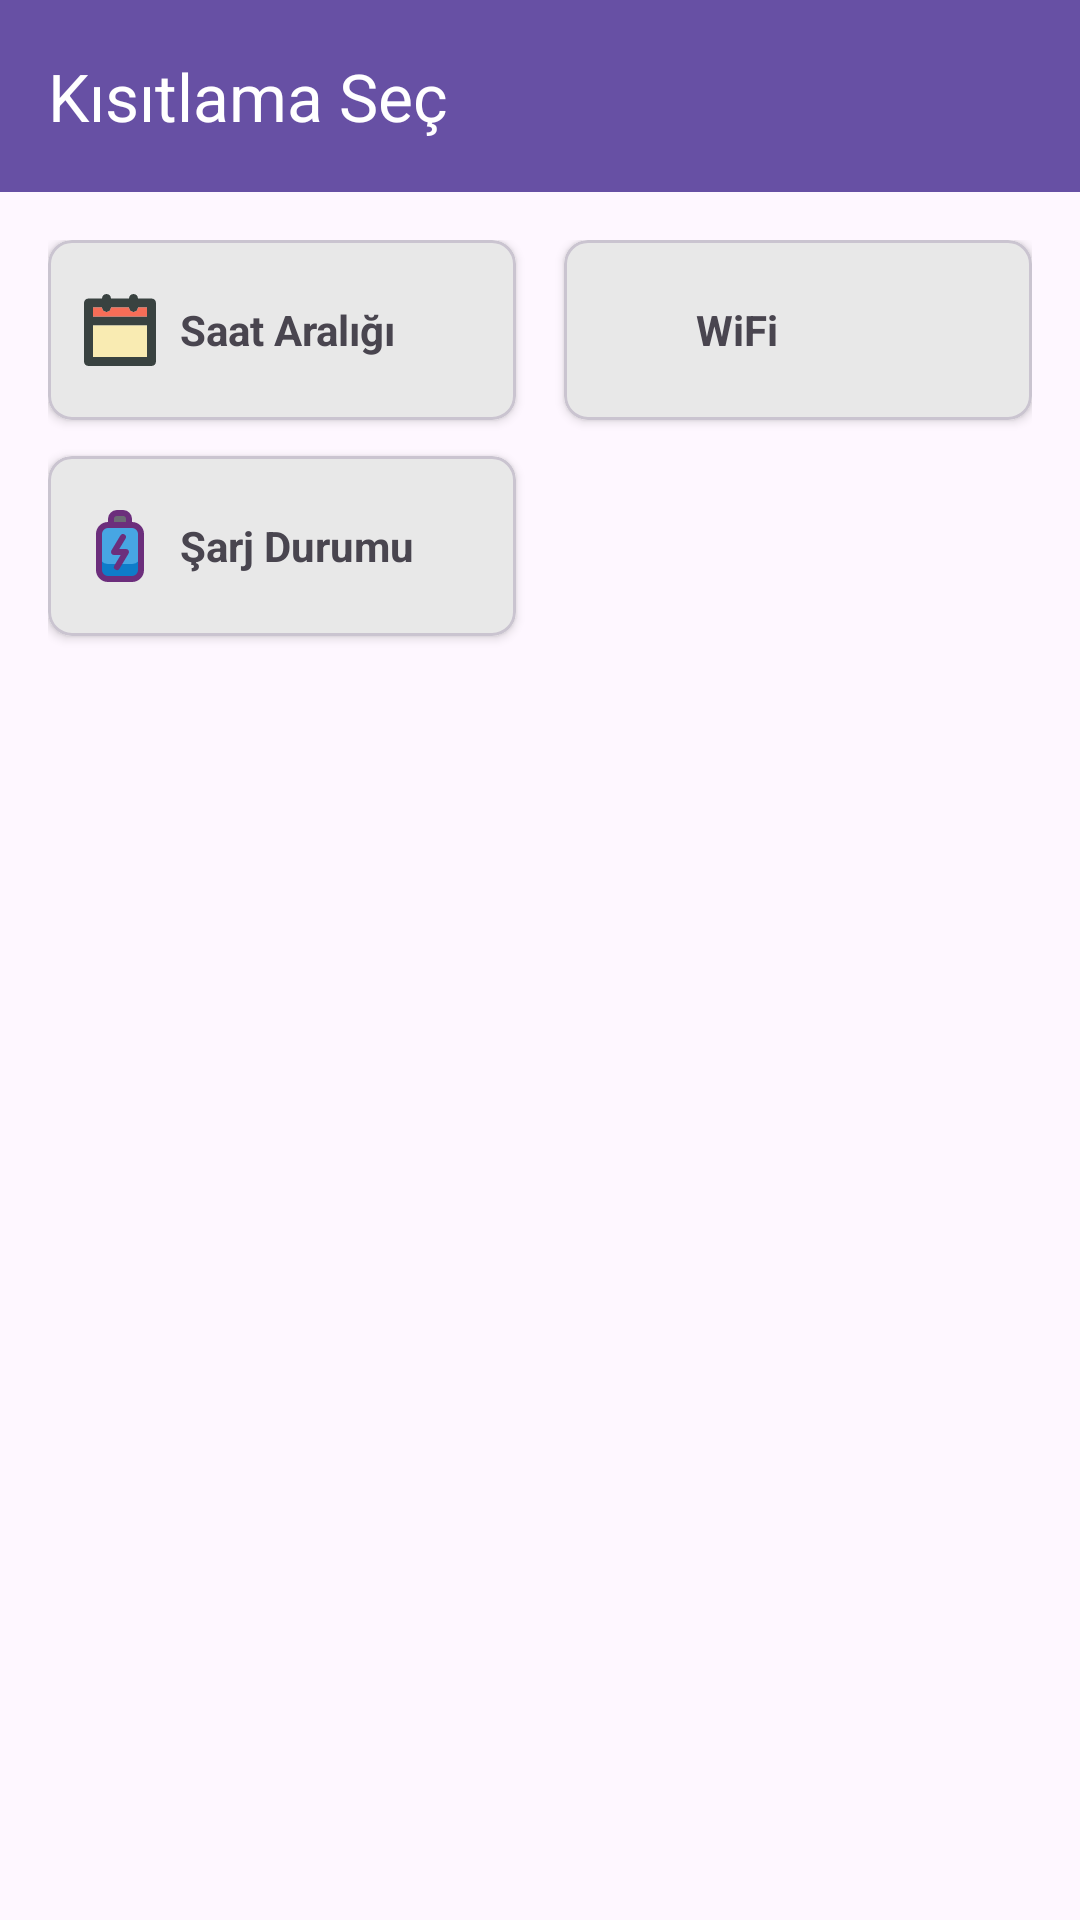

Where to tap for icons on this 1080×1920 app screen, as [x,y]:
battery: [120,546]
time: [120,330]
